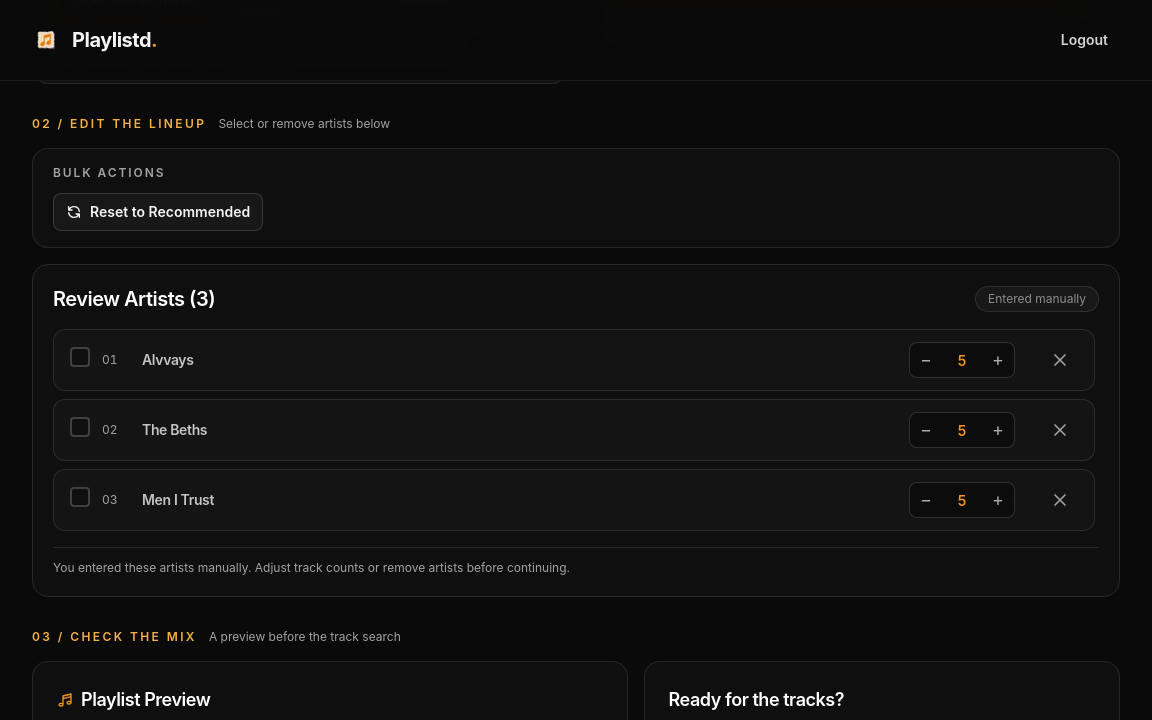
Test: review-artists with a manually entered (text) lineup › adjusts counts with the stepper and stops at the 1–25 limits
This screenshot has width=1152, height=720.
(page scrolled)
Expected: the heading "Review Artists (3)" is shown, [53,285,215,313]
Click the button named "Increase Track count for Alvvays". click: x=998, y=360
box: [982,343,1014,377]
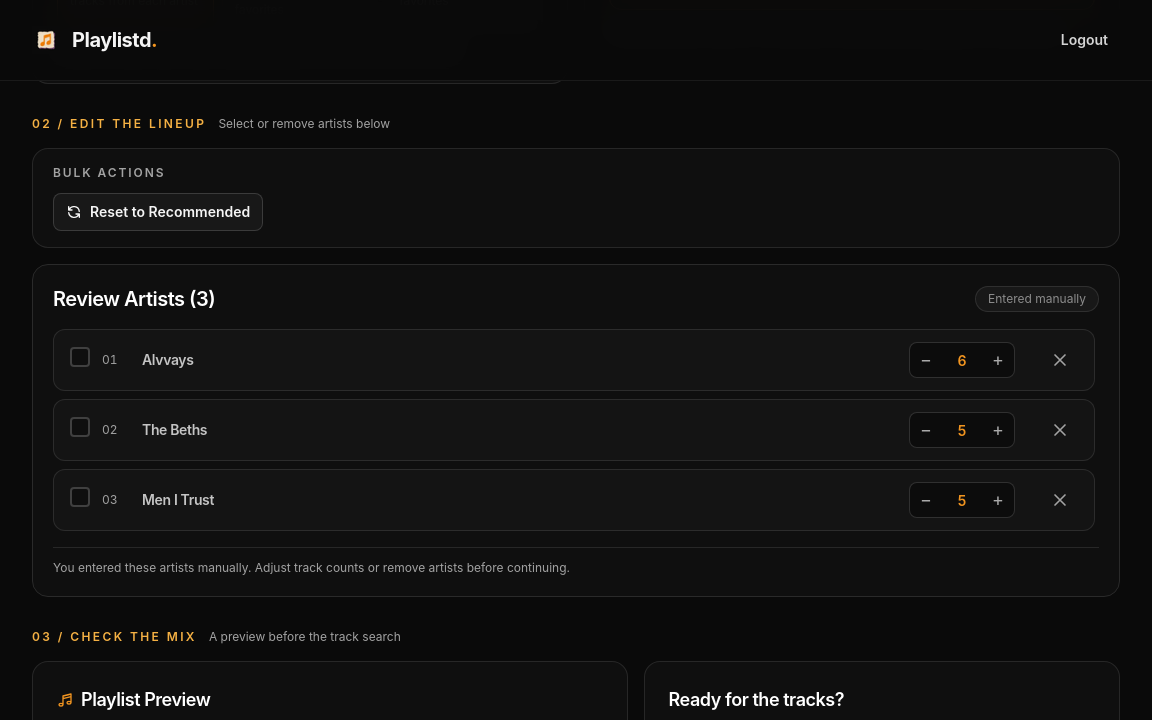
Now the number field named "Track count for Alvvays" holds "6"
Press ArrowDown in the number field named "Track count for Alvvays", box [942,344,982,376]
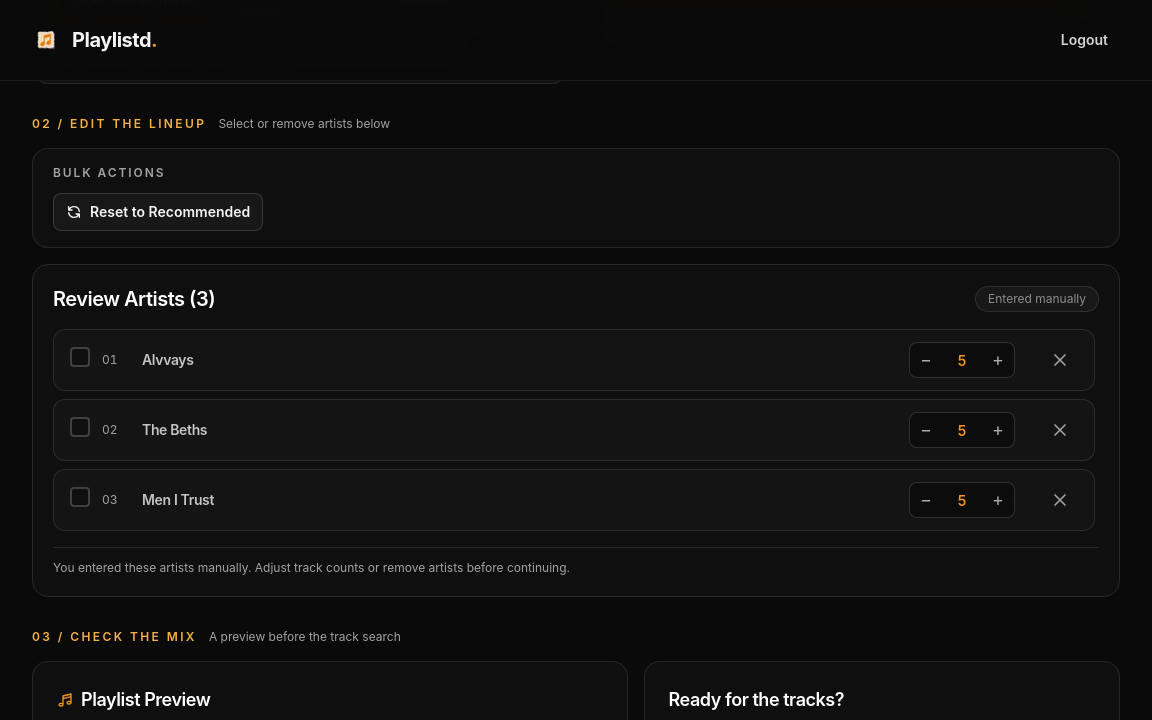
Now the number field named "Track count for Alvvays" holds "5"
Replace the text in the number field named "Track count for Alvvays" with "1". click: x=962, y=360
box: [942,344,982,376]
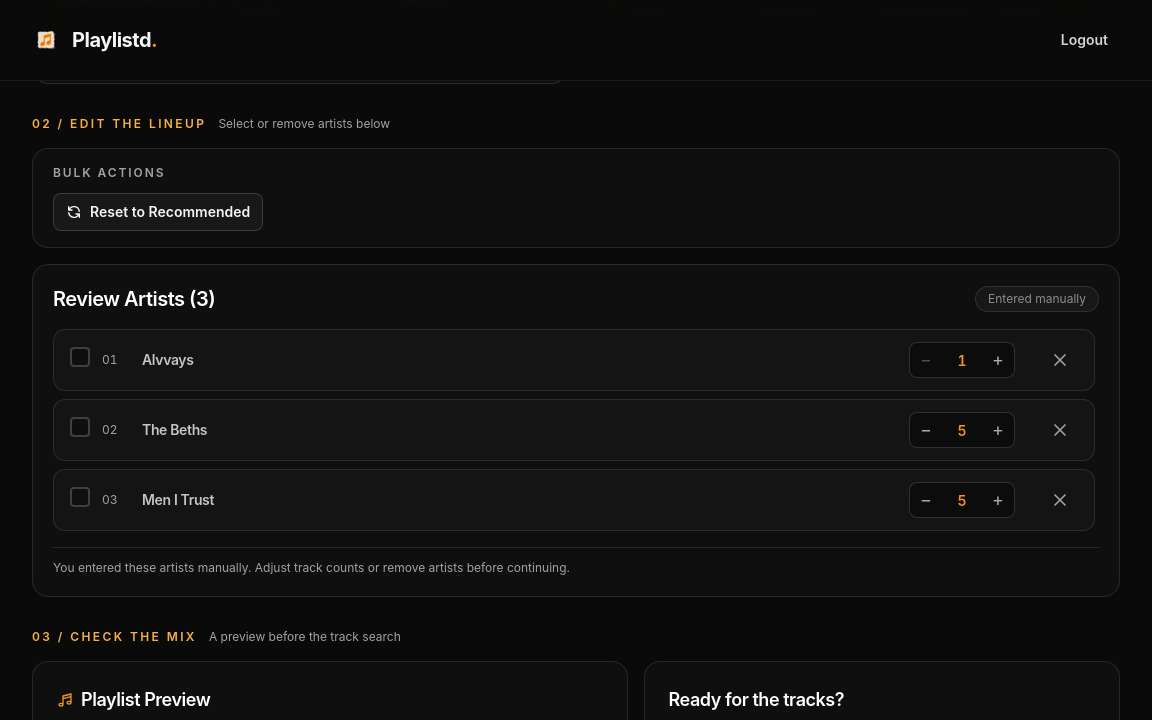
Expected: the button named "Decrease Track count for Alvvays" is disabled, [910,343,942,377]
Replace the text in the number field named "Track count for Alvvays" with "25". click: x=962, y=360
box: [942,344,982,376]
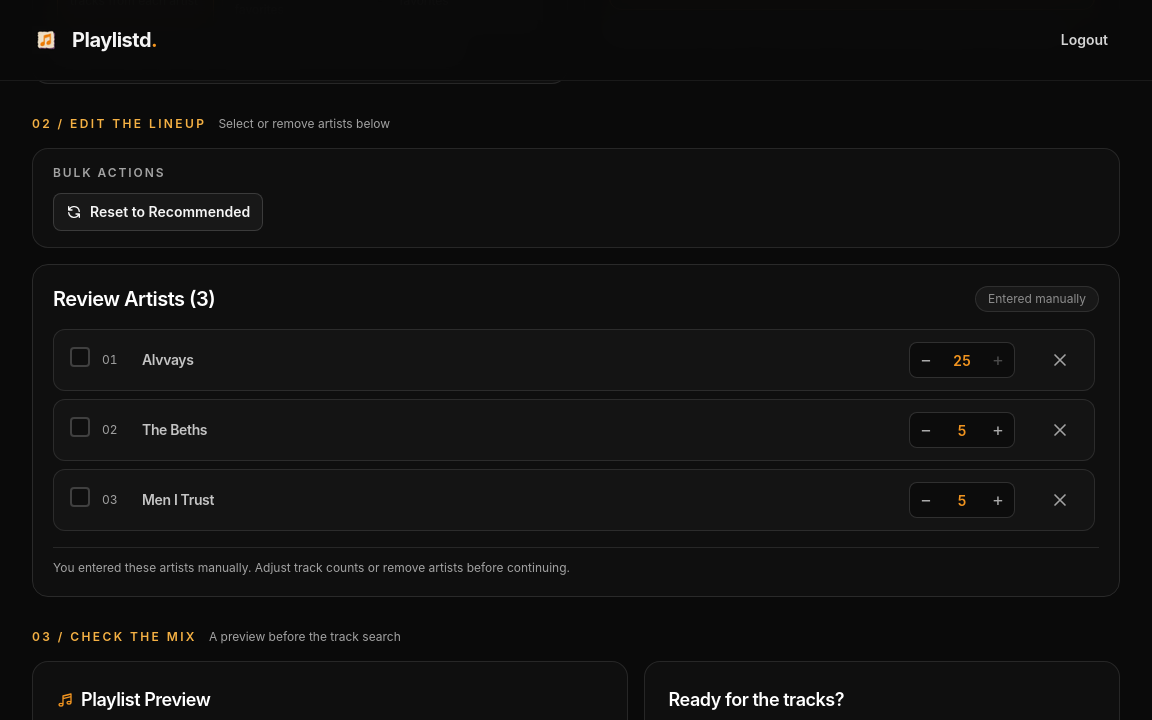
Now the button named "Increase Track count for Alvvays" is disabled, box [982,343,1014,377]
